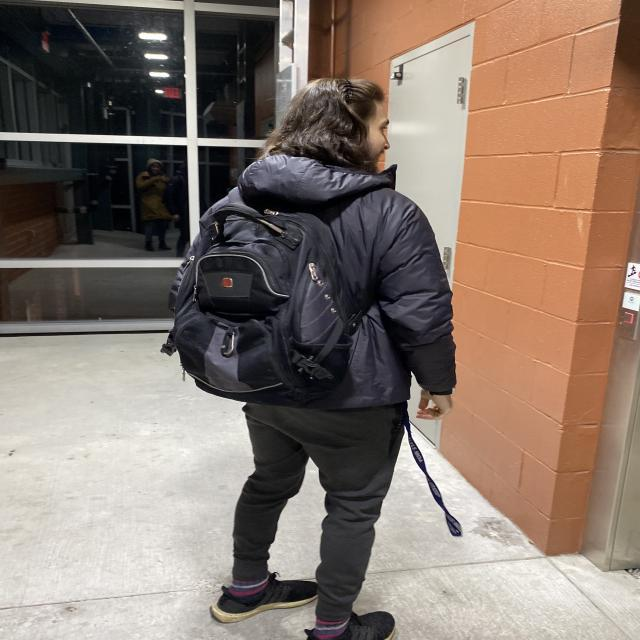Backpacks: (162, 203, 370, 410)
